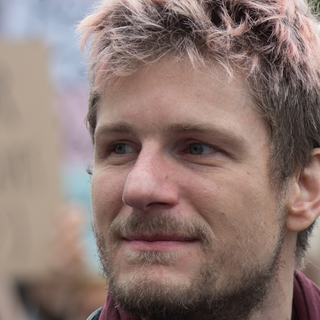eye: (167, 138, 224, 161), (101, 139, 142, 161)
